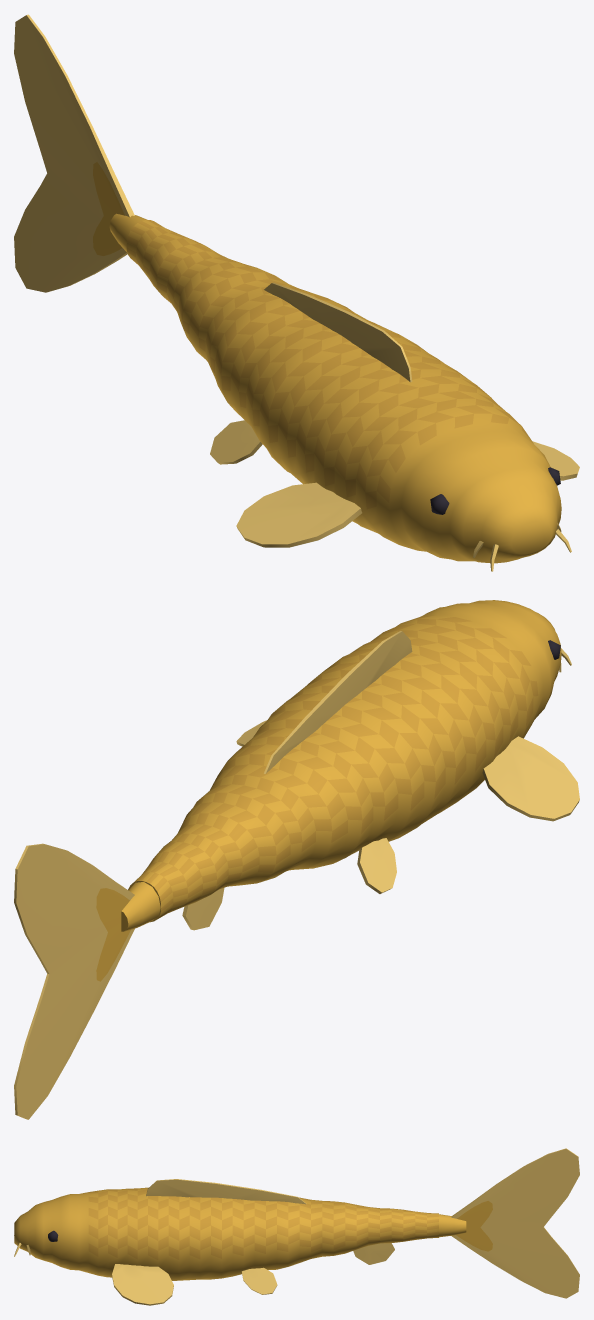
The model's file is koi_ogon.glb.
3 renders of one model, top to bottom at view 1: azimuth 30°, elevation 25°; view 2: azimuth 150°, elevation 25°; view 3: azimuth 270°, elevation 25°, orthographic. The views are drawn at different scales.
Parts seen in each view (by area): view 1: body, tail; view 2: body, tail; view 3: body, tail.
Part boxes in pixels (x1,y1,x2,y2): body: (126, 220, 579, 571); tail: (14, 14, 147, 292); body: (128, 600, 579, 930); tail: (14, 843, 160, 1119); body: (14, 1179, 438, 1305); tail: (439, 1148, 579, 1298).
Size of the model in its own units: 0.1362 by 0.109 by 0.3733.
